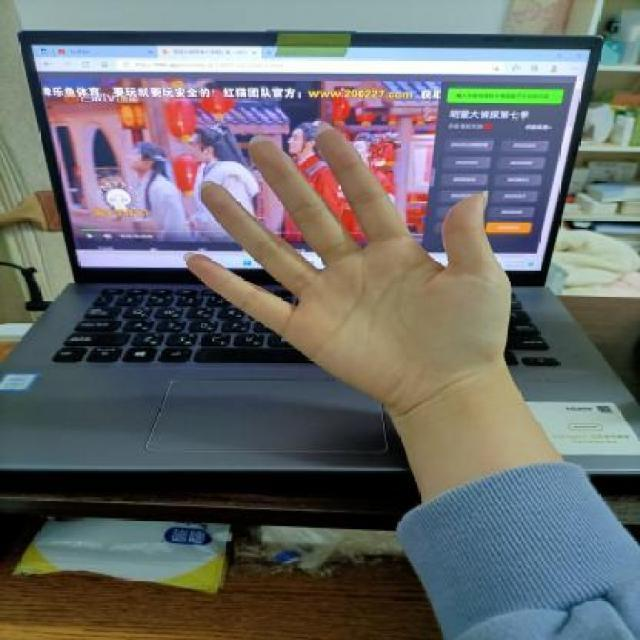Hand: (180, 119, 520, 439)
